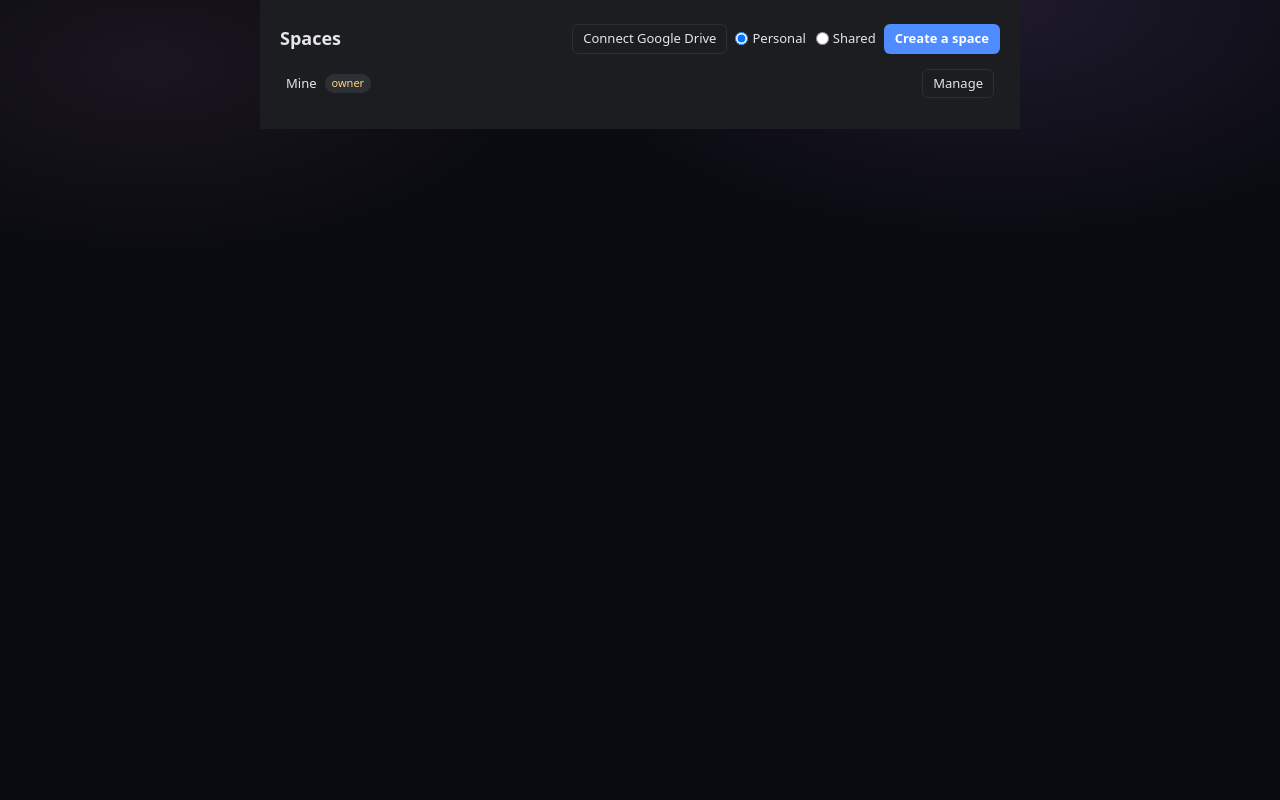
Test: R3-259 — a space's kind › a forbidden conversion surfaces the owner-only message
What coordinates should you click on to do the following:
click the button "Manage"
I would click on:
 (958, 83)
Its box is x1=922 y1=68 x2=994 y2=98.
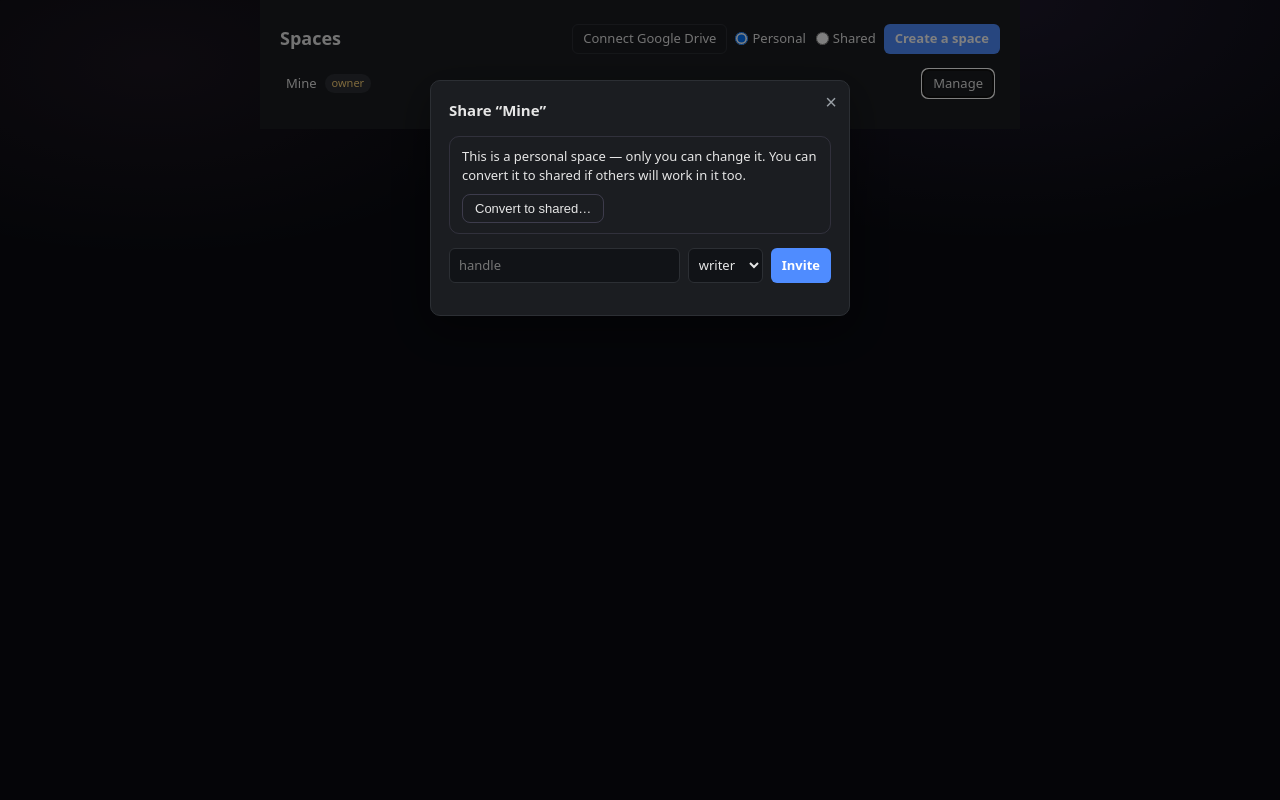
What coordinates should you click on to do the following:
click the button "Convert to shared…"
I would click on:
 (533, 208)
Its box is x1=462 y1=194 x2=604 y2=222.
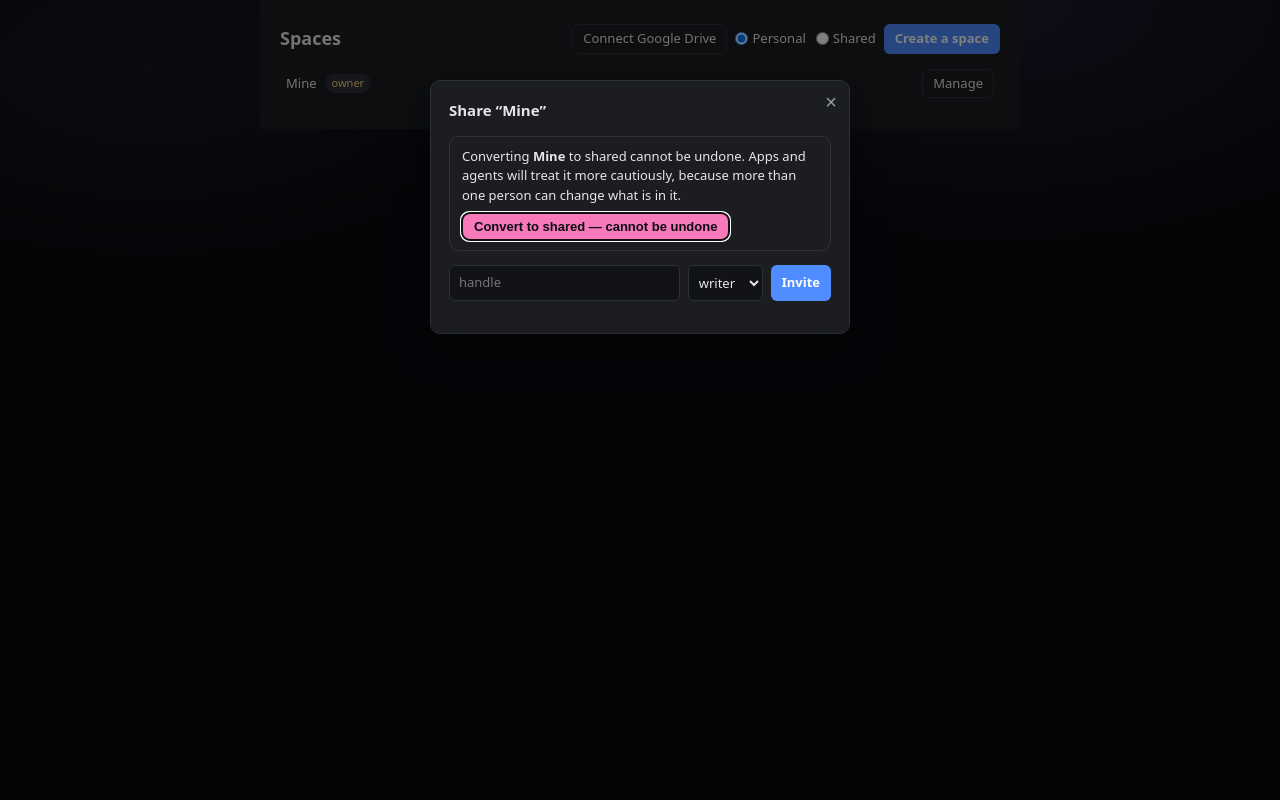
What coordinates should you click on to do the following:
click the button "Convert to shared — cannot be undone"
I would click on:
 (596, 226)
Its box is x1=462 y1=213 x2=729 y2=240.
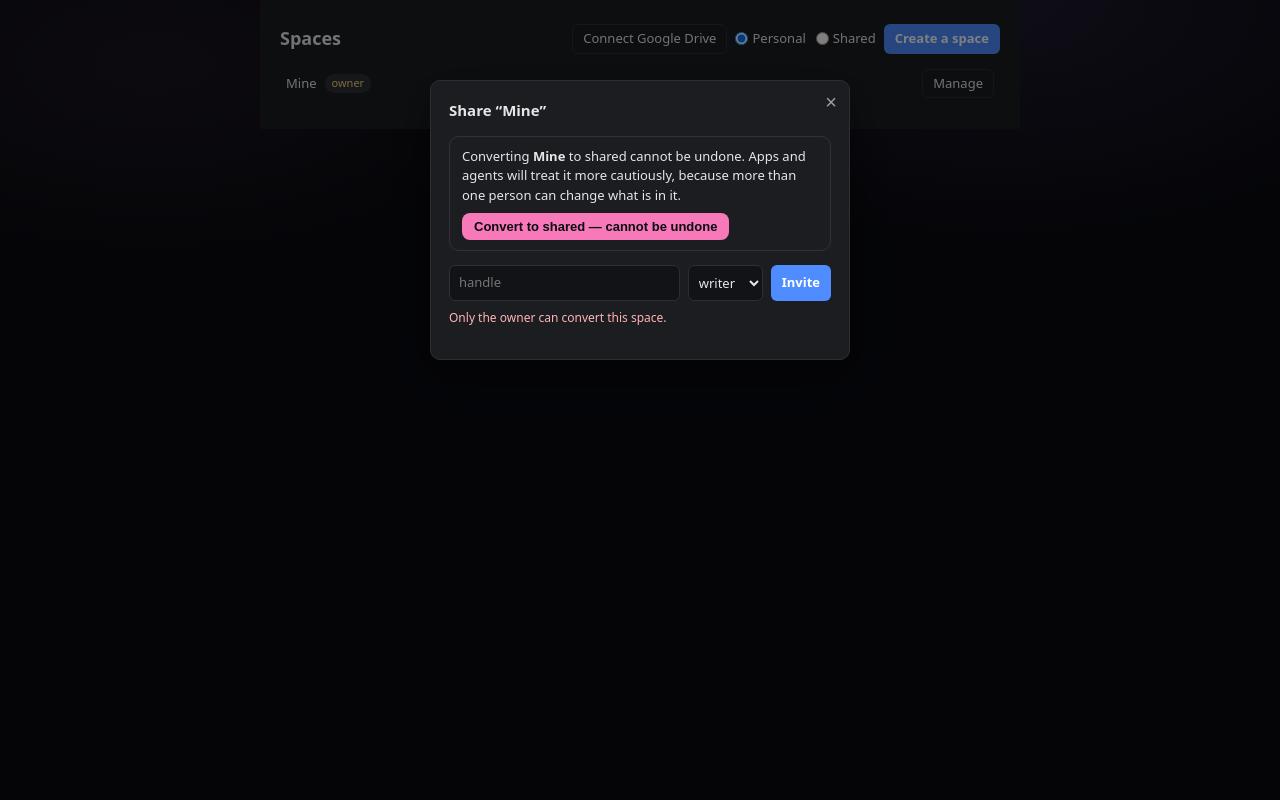
expect the text "Only the owner can convert this space." is shown: met, box x1=449 y1=308 x2=666 y2=326
